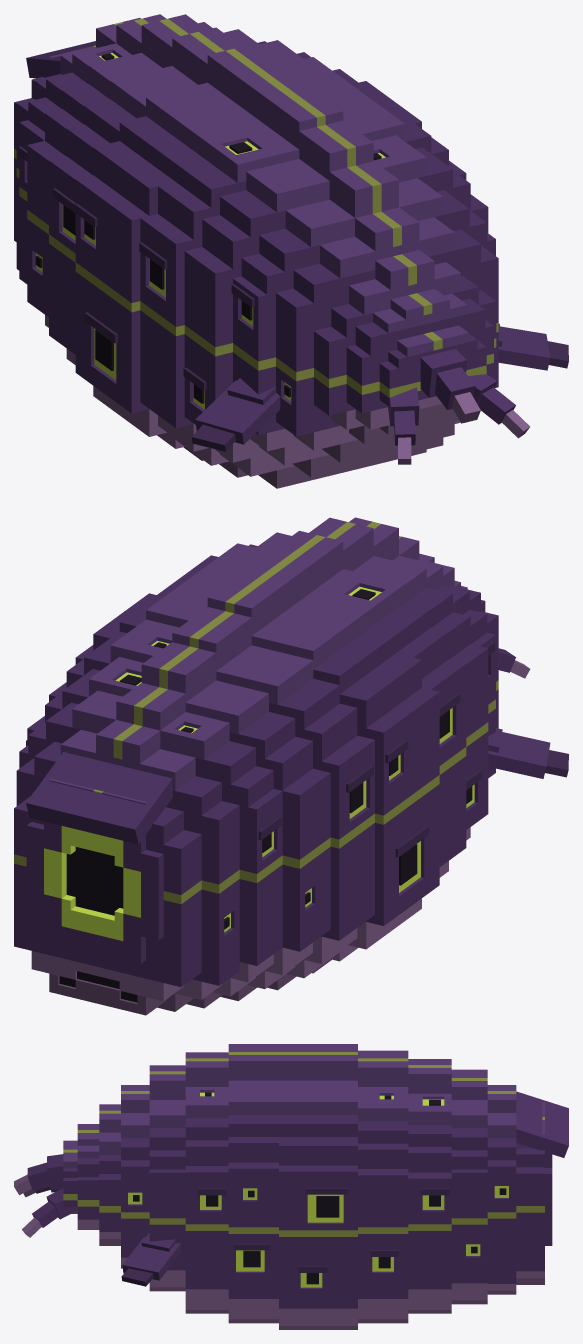
Rendered from AbyssalWatcher.obj.
The picture shows the model from 3 angles, top to bottom: view 1: azimuth 30°, elevation 25°; view 2: azimuth 150°, elevation 25°; view 3: azimuth 270°, elevation 25°; orthographic projection. The views are drawn at different scales.
Parts seen in each view (by area): view 1: Body, R1, R2, R4, R3, FinL, TendrilM, FinR, TendrilL, TendrilR; view 2: Body, R1, FinL, R2; view 3: Body, R1, R2, R4, R3, FinR, TendrilM, TendrilR.
Boxes of the visible parts, x1,y1,x2,y2 form: Body: (14, 14, 488, 488); R1: (231, 161, 495, 477); R2: (276, 207, 498, 462); R4: (346, 288, 493, 434); R3: (314, 250, 496, 443); FinL: (191, 378, 280, 451); TendrilM: (420, 349, 480, 423); FinR: (498, 323, 568, 370); TendrilL: (388, 387, 419, 464); TendrilR: (468, 374, 530, 438); Body: (14, 517, 488, 1015); R1: (349, 517, 495, 777); FinL: (488, 728, 568, 778); R2: (399, 536, 498, 728); Body: (185, 1044, 568, 1329); R1: (149, 1065, 185, 1291); R2: (121, 1085, 149, 1268); R4: (63, 1124, 99, 1229); R3: (99, 1104, 120, 1245); FinR: (121, 1233, 181, 1286); TendrilM: (14, 1154, 63, 1195); TendrilR: (22, 1188, 77, 1237).
Bounding box in the file's own units: 21.41 × 19 × 38.6.
1 material, 1 textured.
